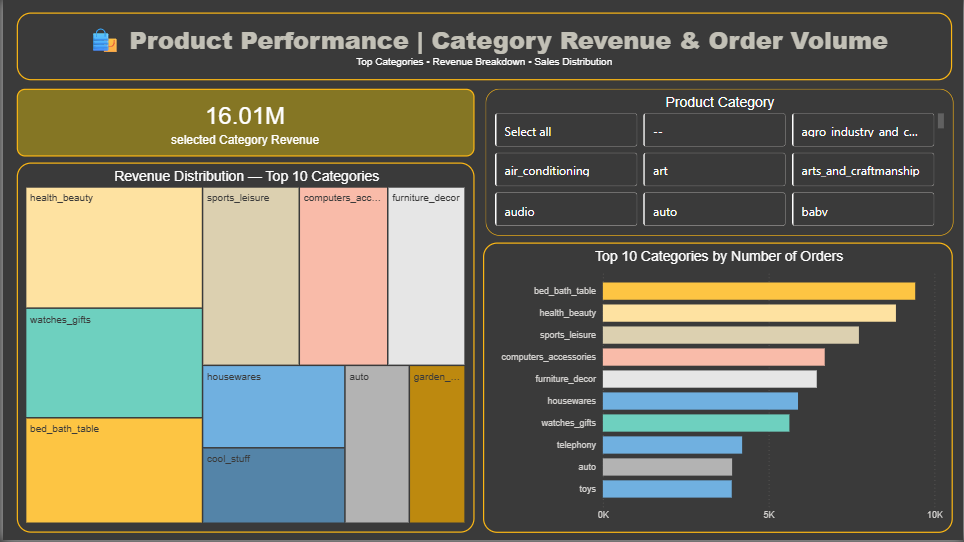

What the dashboard file says about the page in this screenshot:
{"tool":"powerbi","page":{"name":"Page 2","canvas":[1280,720],"ordinal":1},"visuals":[{"type":"treemap","title":"Revenue Distribution — Top 10 Categories","fields":{"Values":["Measures (2).Total Revenue"],"Group":["olist category_translation.product_category_name_english"]},"box":[18.8,216.2,610,493.8],"z":0},{"type":"clusteredBarChart","title":"Top 10 Categories by Number of Orders","fields":{"Y":["Count(olist order_items.order_id)"],"Category":["olist category_translation.product_category_name_english"]},"box":[640,322.5,626.2,387.5],"z":1000},{"type":"advancedSlicerVisual","title":"Product Category","fields":{"Values":["olist category_translation.product_category_name_english"]},"box":[642.5,117.5,623.8,196.2],"z":2000},{"type":"textbox","box":[18.8,16.2,1247.5,90],"z":3000},{"type":"card","fields":{"Values":["Measures (2).selected Category Revenue"]},"box":[18.8,117.5,610,90],"z":4000}]}

Visuals, with their boxes in screenshot pixels (x1, y1, x2, y2), scaled from the page's 1280x720 canvas onto the 964x542 screenshot:
"Revenue Distribution — Top 10 Categories" treemap: [x1=14, y1=163, x2=474, y2=534]
"Top 10 Categories by Number of Orders" clusteredBarChart: [x1=482, y1=243, x2=954, y2=534]
"Product Category" advancedSlicerVisual: [x1=484, y1=88, x2=954, y2=236]
textbox: [x1=14, y1=12, x2=954, y2=80]
card - Measures (2).selected Category Revenue: [x1=14, y1=88, x2=474, y2=156]
